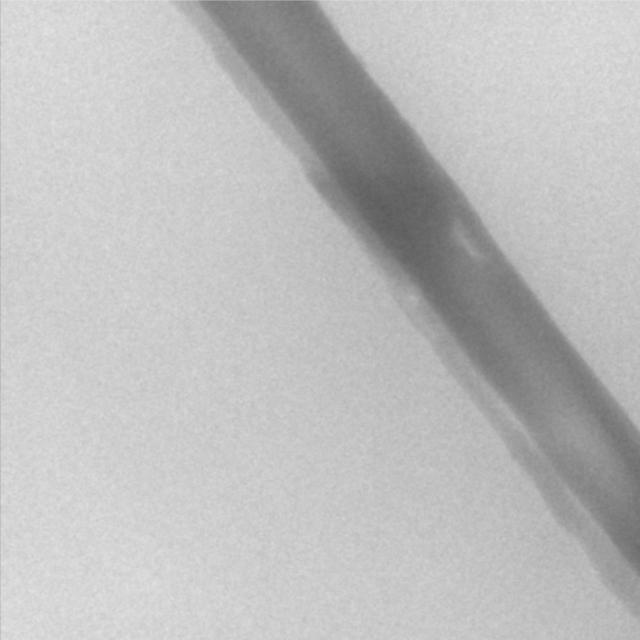unfused: (453, 225, 483, 259)
